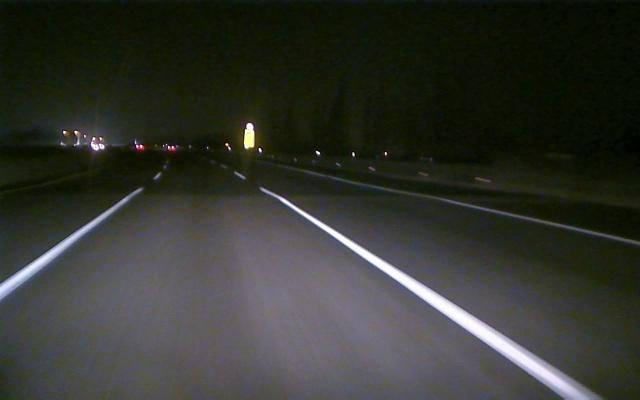lane: (253, 182, 599, 396), (331, 176, 640, 245), (1, 185, 147, 299)
